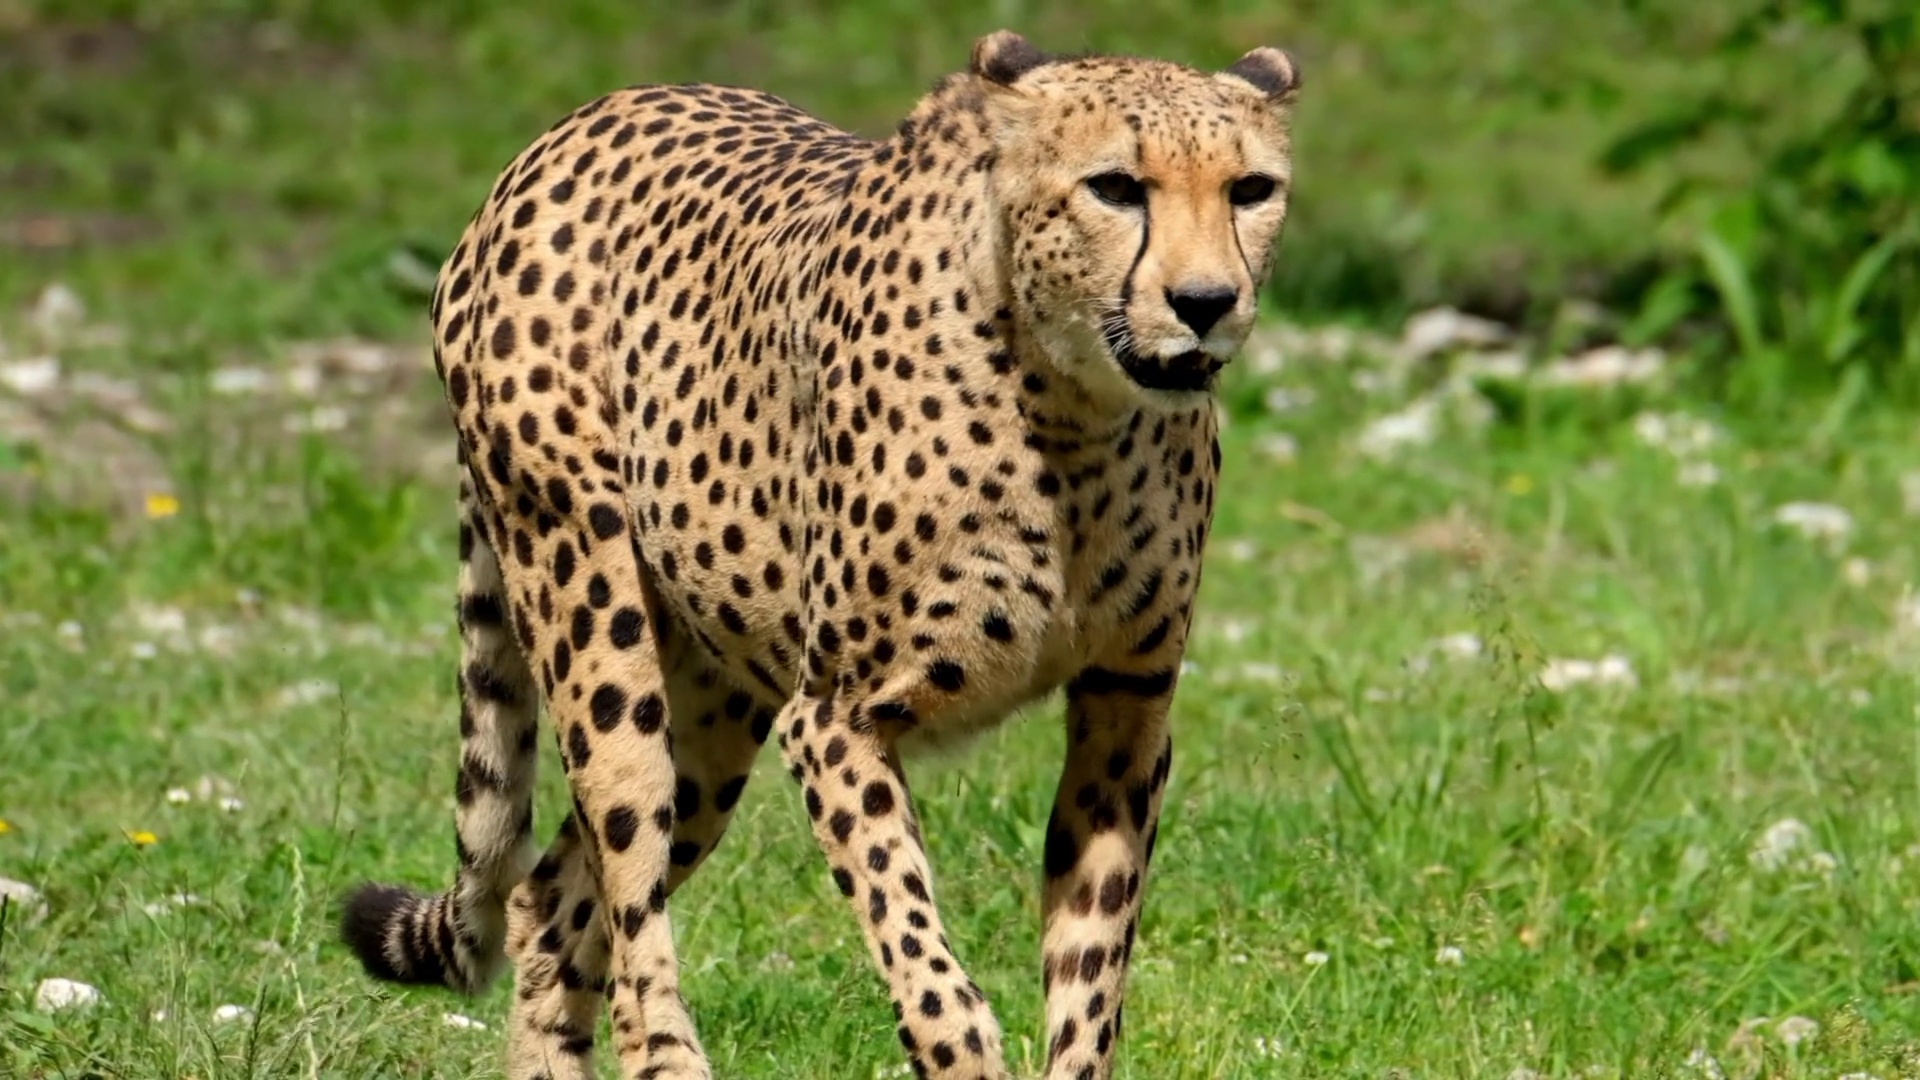Cheetah: (343, 22, 1308, 1080)
